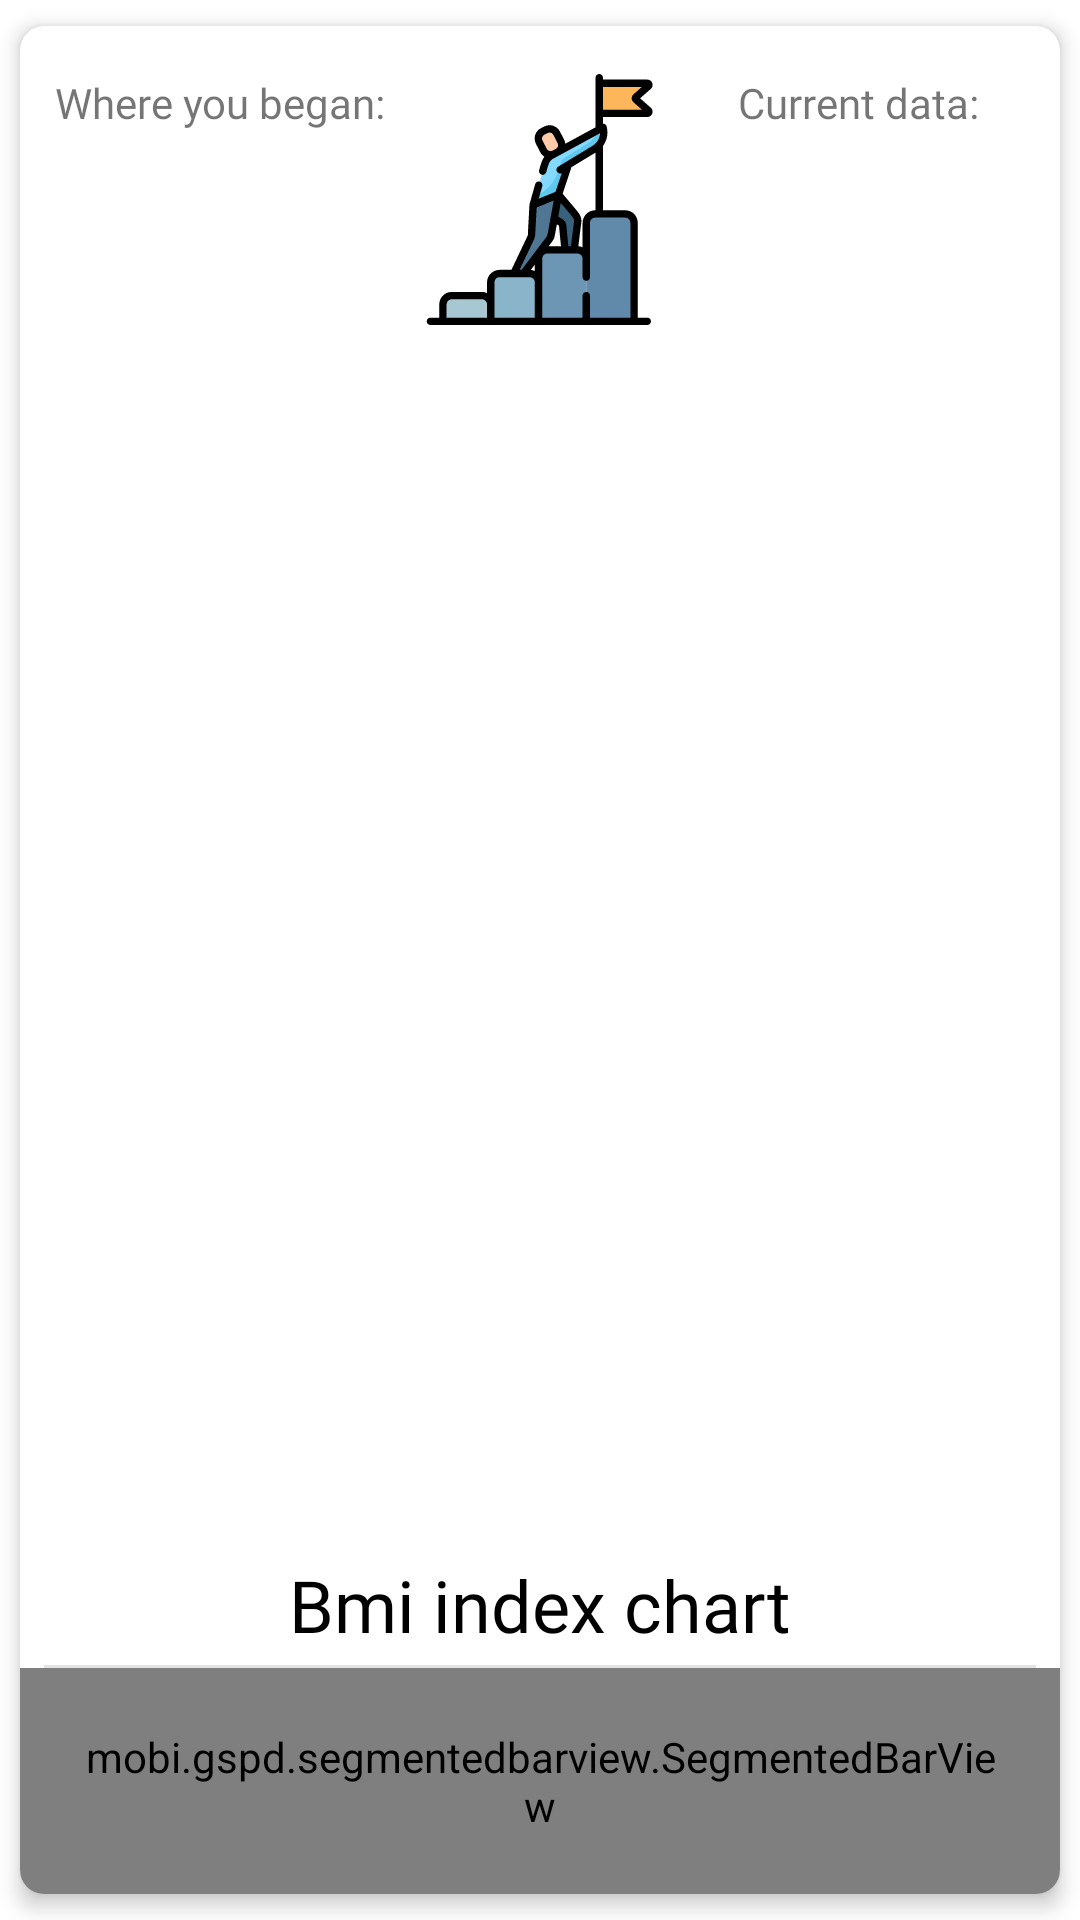

Screen size 1080 x 1920. Icon name, then its box in pixels as (x1, y1, x2, y2):
goal: (426, 74, 653, 325)
